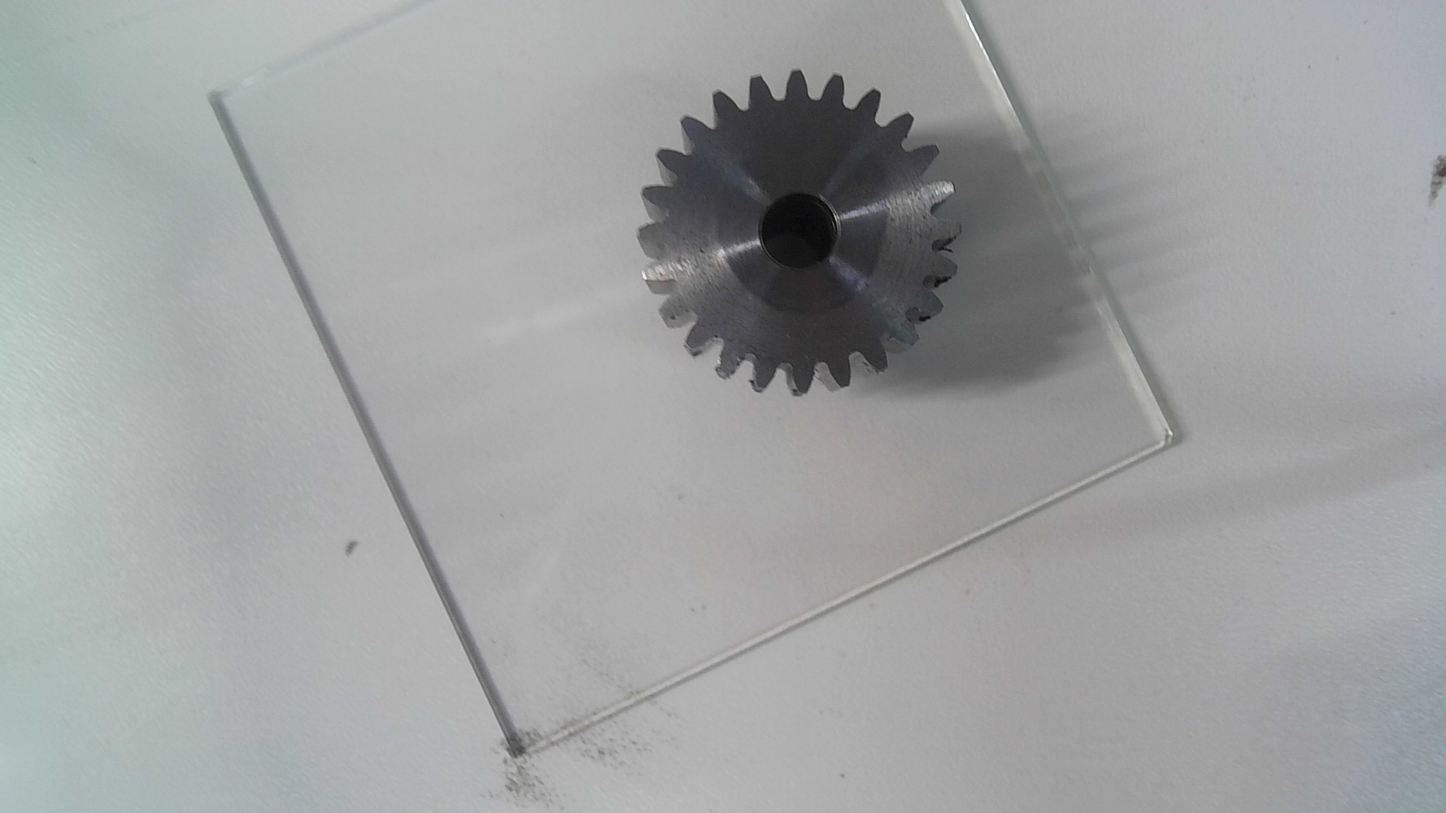gear: (635, 65, 963, 400)
